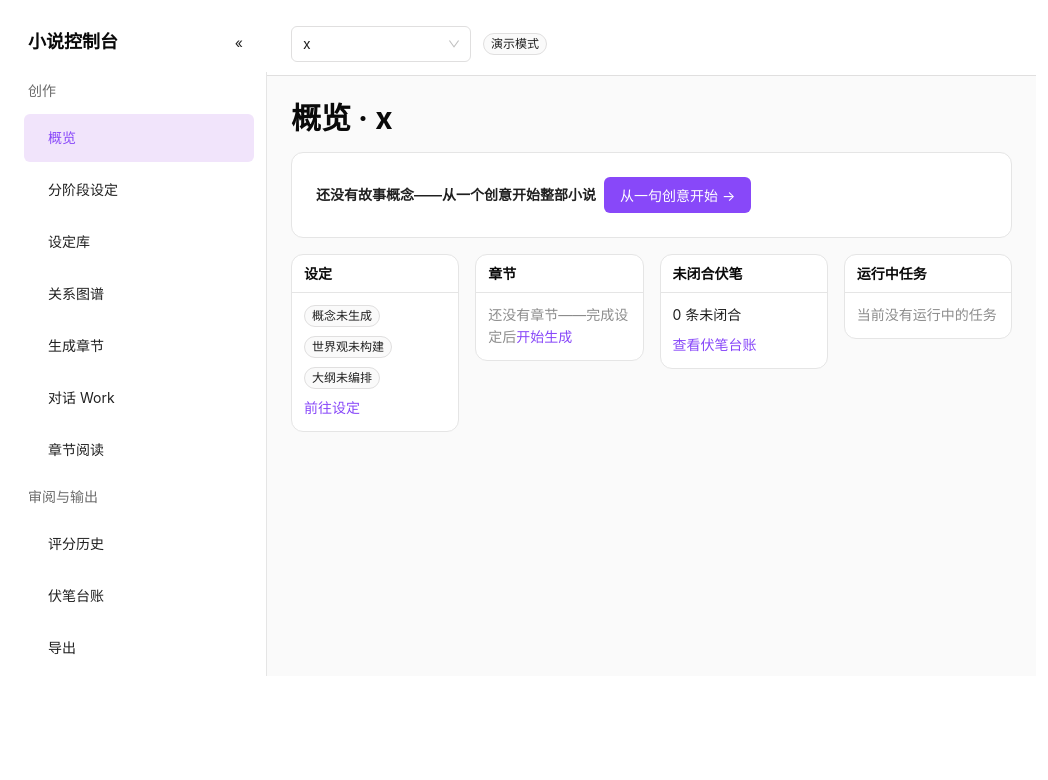
Test case: sider title navigates back to the project list
Click the button with test id "home-link": (73, 42) [28,29,251,56]
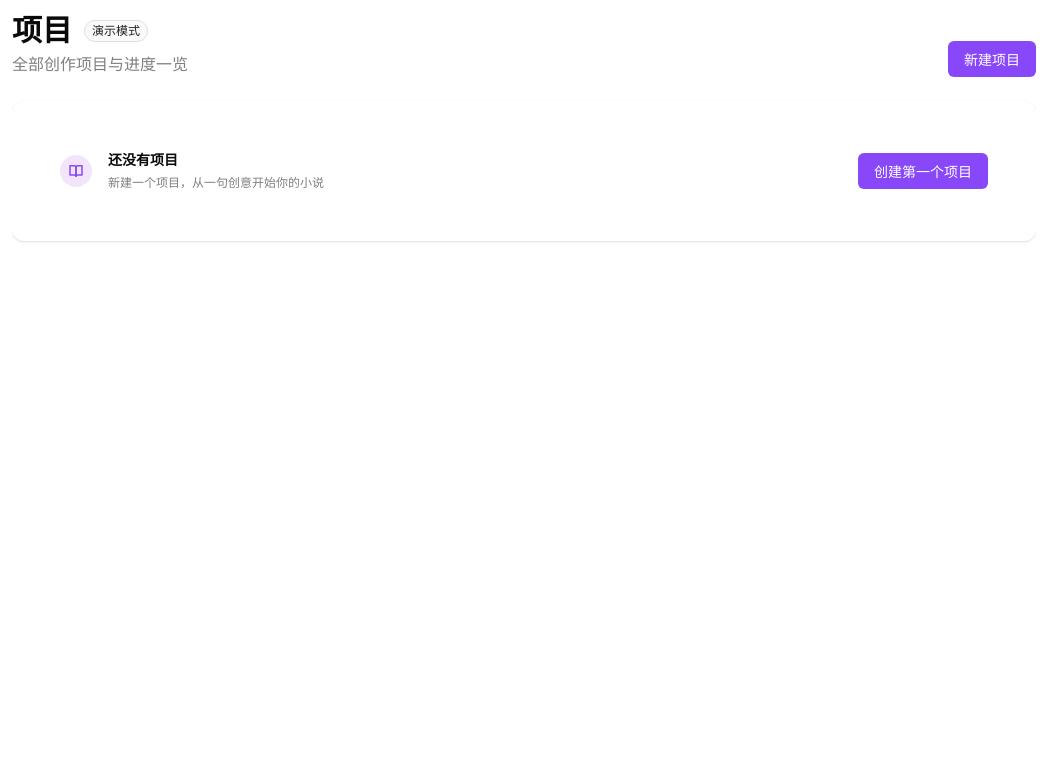
Expected: the element with test id "page-projects" is shown, [12,12,1036,241]
